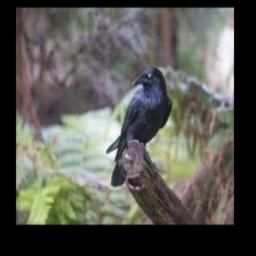Crow: (106, 67, 173, 162)
